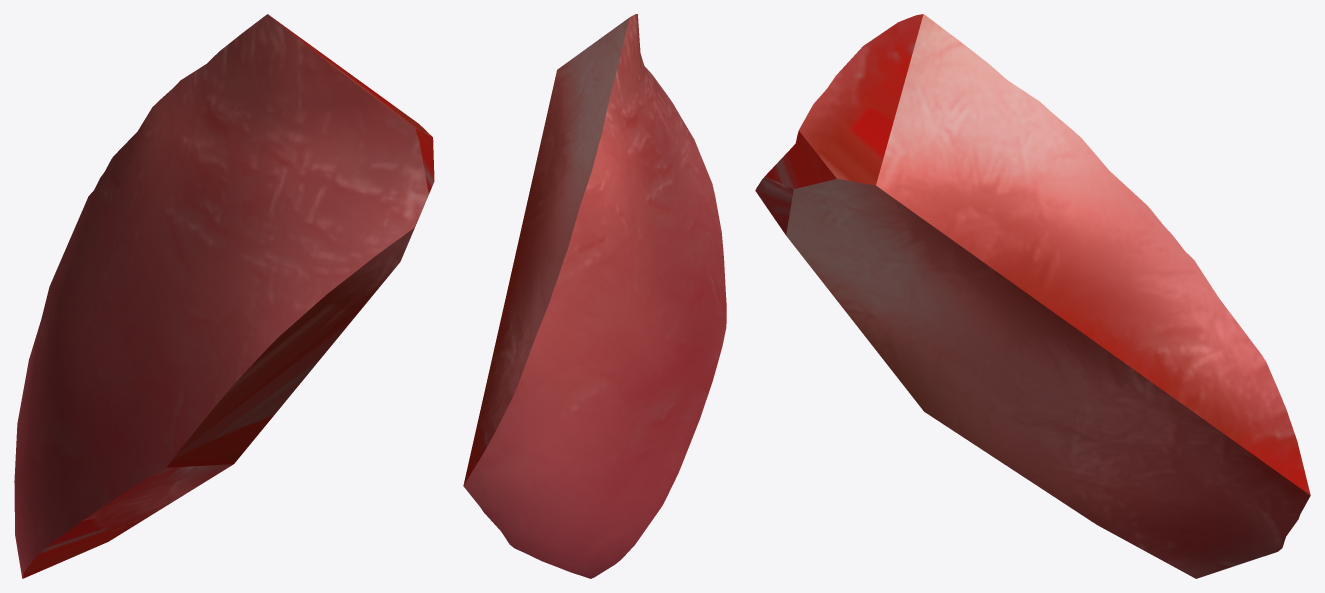
Rendered from SM_HeartPiece_12_.FBX.
3 renders of one model, left to right at view 1: azimuth 30°, elevation 25°; view 2: azimuth 150°, elevation 25°; view 3: azimuth 270°, elevation 25°, orthographic. The views are drawn at different scales.
Parts seen in each view (by area): view 1: SM_HeartPiece_12_; view 2: SM_HeartPiece_12_; view 3: SM_HeartPiece_12_.
Part boxes in pixels (<box>): SM_HeartPiece_12_: <box>14,14,434,578</box>; SM_HeartPiece_12_: <box>463,14,726,578</box>; SM_HeartPiece_12_: <box>755,14,1310,578</box>.
Bounding box in the file's own units: 150 × 291 × 350.
